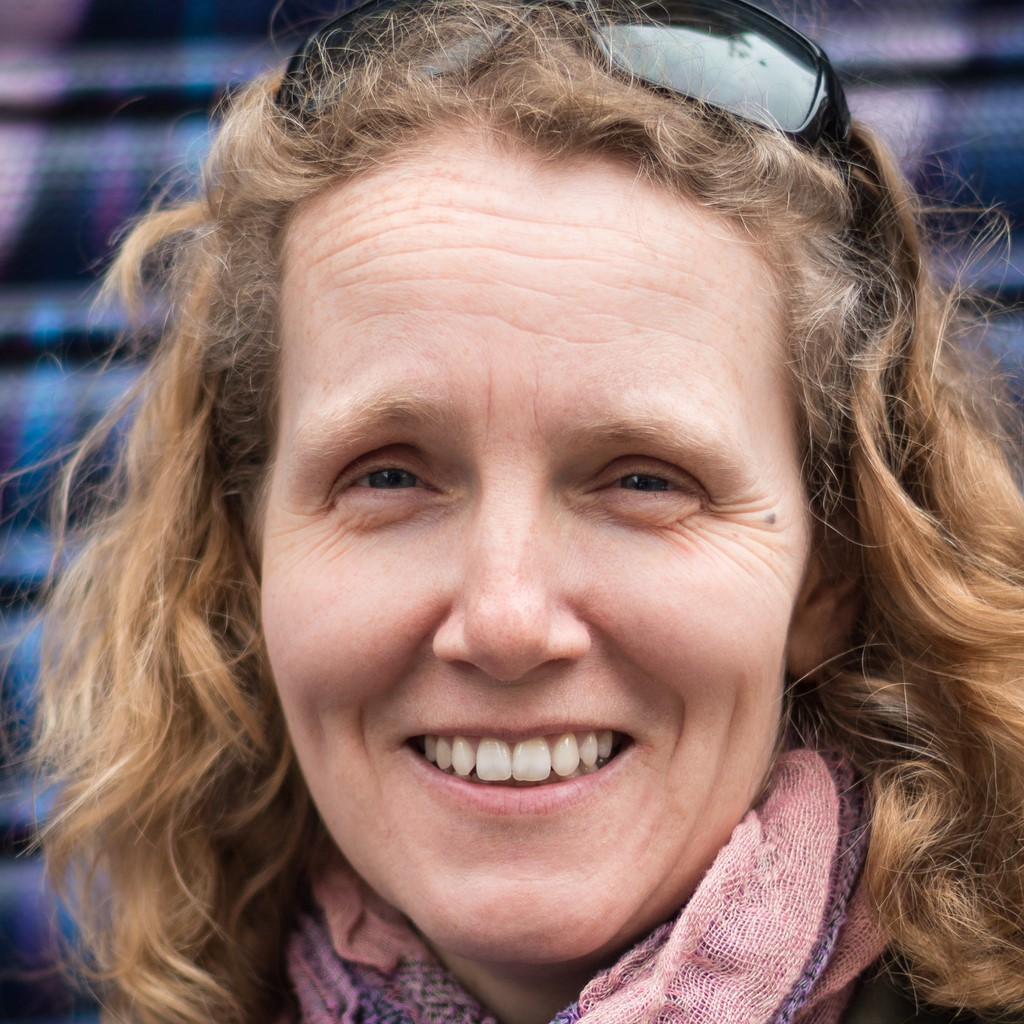sin_mascara: (235, 87, 851, 967)
